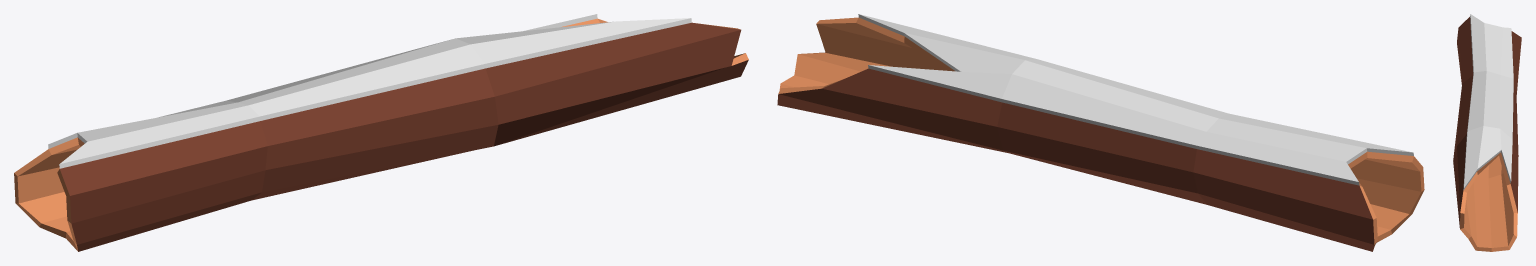
The model's file is pine_trunk_type_12_extra_LOD0.fbx.
The picture shows the model from 3 angles, left to right: view 1: azimuth 30°, elevation 25°; view 2: azimuth 150°, elevation 25°; view 3: azimuth 270°, elevation 25°; orthographic projection. The views are drawn at different scales.
Parts seen in each view (by area): view 1: pt_type_12.001; view 2: pt_type_12.001; view 3: pt_type_12.001.
Part boxes in pixels (left/top/right/bottom): pt_type_12.001: left=14, top=14, right=748, bottom=251; pt_type_12.001: left=777, top=14, right=1424, bottom=251; pt_type_12.001: left=1453, top=14, right=1521, bottom=251.
Size of the model in its own units: 629 by 91.09 by 95.9.
